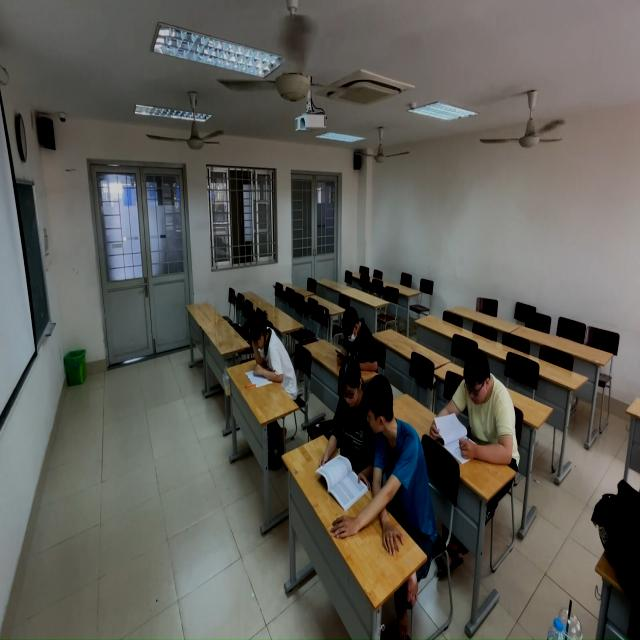read: (429, 345, 523, 472), (360, 376, 428, 548), (319, 355, 372, 487), (245, 302, 297, 401), (336, 306, 378, 368)
